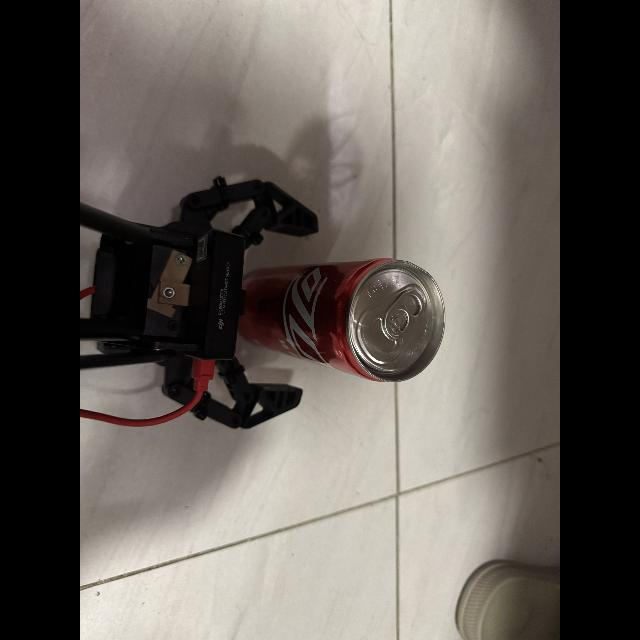Cola: (230, 243, 462, 395)
